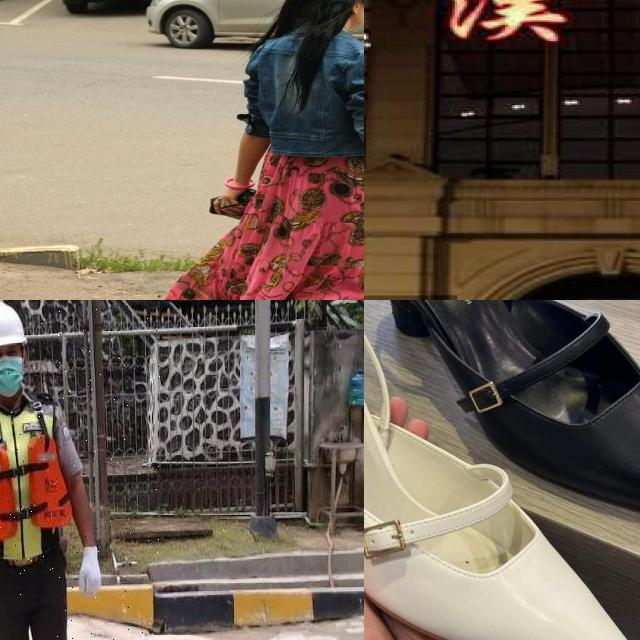Sandals: (364, 300, 640, 640), (364, 300, 640, 538)
head_helmet: (0, 301, 26, 350)
person: (0, 300, 160, 640)
vest: (0, 405, 78, 568)
